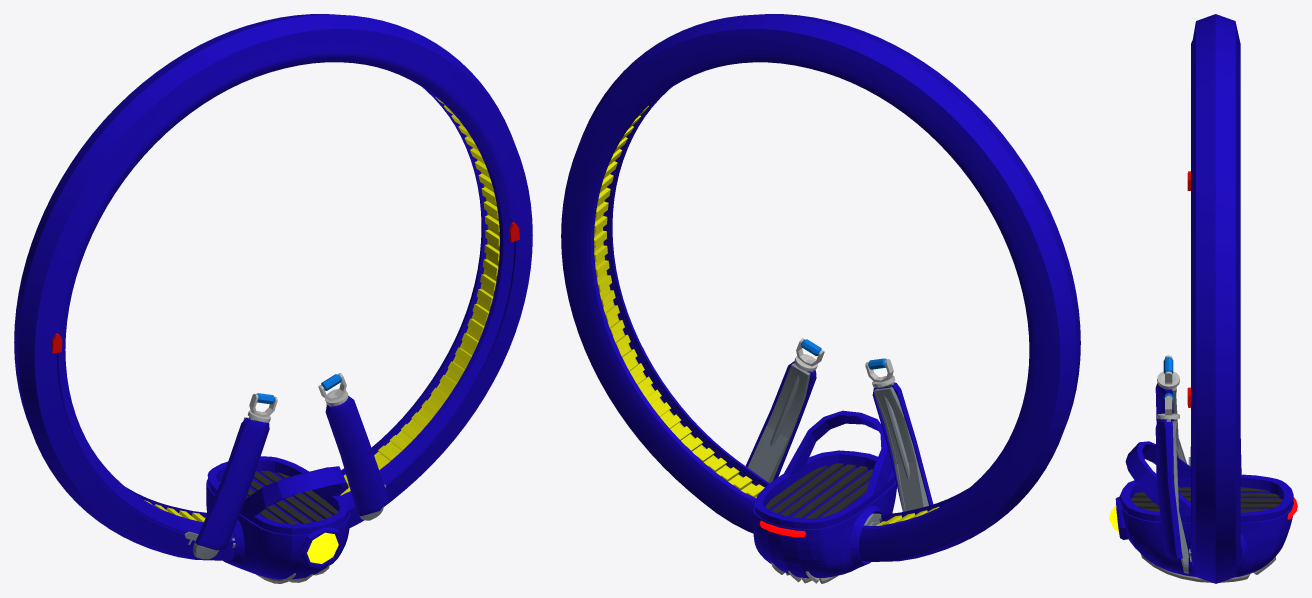
File: moonscooter.fbx
The picture shows the model from 3 angles, left to right: view 1: azimuth 30°, elevation 25°; view 2: azimuth 150°, elevation 25°; view 3: azimuth 270°, elevation 25°; orthographic projection. The views are drawn at different scales.
Visible parts, largest first — view 1: cilinderFuselage_C_001_GEO, cockpit_C_001_GEO, lights_C_001_GEO, recovering_L_001_GEO, recovering_R_001_GEO, rubberPlanks_C_001_GEO, lightFront_C_001_GEO, giroscopicHandle_L_001_GEO; view 2: cilinderFuselage_C_001_GEO, cockpit_C_001_GEO, lights_C_001_GEO, rubberPlanks_C_001_GEO, estensorSuperior_R_001_GEO, UpperLid_C_001_GEO, estensorSuperior_L_001_GEO, extensorInferior_R_001_GEO, extensorInferior_L_001_GEO, recovering_L_001_GEO, recovering_R_001_GEO, LowerLid_C_001_GEO (+1 smaller); view 3: cilinderFuselage_C_001_GEO, cockpit_C_001_GEO, recovering_R_001_GEO, rubberPlanks_C_001_GEO, giroscopicHandle_R_001_GEO, metalProfiles_C_001_GEO, recovering_L_001_GEO, giroscopicHandle_L_001_GEO, extensorPipe_R_001_GEO.
Part boxes in pixels (x1,y1,x2,y2): cilinderFuselage_C_001_GEO: [14, 14, 532, 560]; cockpit_C_001_GEO: [206, 456, 350, 579]; lights_C_001_GEO: [144, 97, 499, 522]; recovering_L_001_GEO: [195, 417, 269, 550]; recovering_R_001_GEO: [325, 396, 388, 516]; rubberPlanks_C_001_GEO: [219, 471, 337, 524]; lightFront_C_001_GEO: [307, 532, 338, 563]; giroscopicHandle_L_001_GEO: [318, 373, 348, 406]; cilinderFuselage_C_001_GEO: [561, 14, 1080, 561]; cockpit_C_001_GEO: [753, 410, 896, 576]; lights_C_001_GEO: [594, 102, 939, 525]; rubberPlanks_C_001_GEO: [766, 463, 872, 518]; estensorSuperior_R_001_GEO: [766, 363, 810, 438]; UpperLid_C_001_GEO: [753, 522, 824, 559]; estensorSuperior_L_001_GEO: [873, 387, 917, 464]; extensorInferior_R_001_GEO: [747, 426, 790, 483]; extensorInferior_L_001_GEO: [894, 461, 928, 511]; recovering_L_001_GEO: [872, 382, 933, 510]; recovering_R_001_GEO: [745, 361, 816, 480]; LowerLid_C_001_GEO: [757, 549, 832, 583]; cilinderFuselage_C_001_GEO: [1190, 14, 1241, 583]; cockpit_C_001_GEO: [1115, 441, 1293, 577]; recovering_R_001_GEO: [1155, 420, 1182, 558]; rubberPlanks_C_001_GEO: [1131, 487, 1282, 512]; giroscopicHandle_R_001_GEO: [1157, 355, 1179, 389]; metalProfiles_C_001_GEO: [1141, 554, 1250, 582]; recovering_L_001_GEO: [1155, 383, 1177, 456]; giroscopicHandle_L_001_GEO: [1157, 392, 1179, 419]; extensorPipe_R_001_GEO: [1173, 432, 1179, 513].
Size of the model in its own units: 2.47 by 2.55 by 0.8143.
